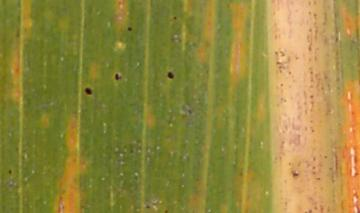tarspot: (81, 86, 94, 97), (113, 71, 123, 82), (166, 70, 175, 80), (125, 25, 135, 34), (6, 167, 14, 174), (171, 14, 178, 21), (162, 207, 170, 213), (186, 108, 194, 114), (144, 204, 151, 210)
